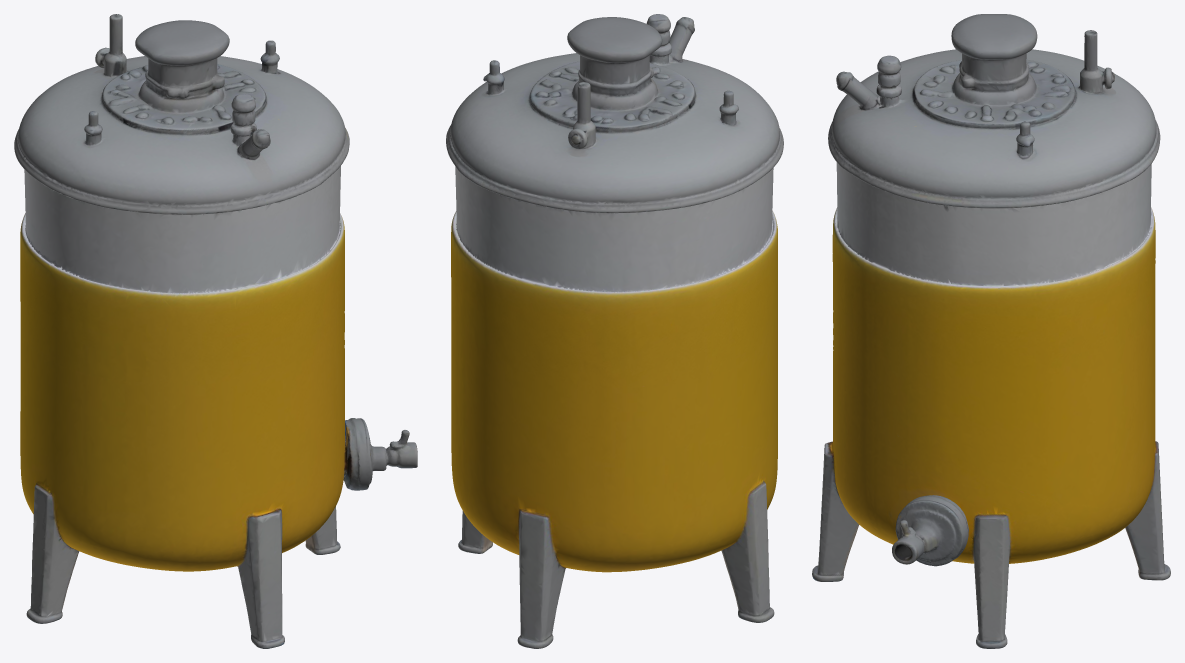
File: fermentacion-opt.glb
3 views of the same model, side by side, from view 1: azimuth 30°, elevation 25°; view 2: azimuth 150°, elevation 25°; view 3: azimuth 270°, elevation 25° (orthographic).
Parts seen in each view (by area): view 1: tripo_node_6495c0ba-6a32-4e62-b82f-67cb8929c3de; view 2: tripo_node_6495c0ba-6a32-4e62-b82f-67cb8929c3de; view 3: tripo_node_6495c0ba-6a32-4e62-b82f-67cb8929c3de.
Boxes of the visible parts, x1,y1,x2,y2 form: tripo_node_6495c0ba-6a32-4e62-b82f-67cb8929c3de: (14,14,417,648); tripo_node_6495c0ba-6a32-4e62-b82f-67cb8929c3de: (446,14,783,648); tripo_node_6495c0ba-6a32-4e62-b82f-67cb8929c3de: (812,14,1170,648).
Bounding box in the file's own units: 0.6618 × 1 × 0.593.
Materials: 1 (1 with a texture image).
